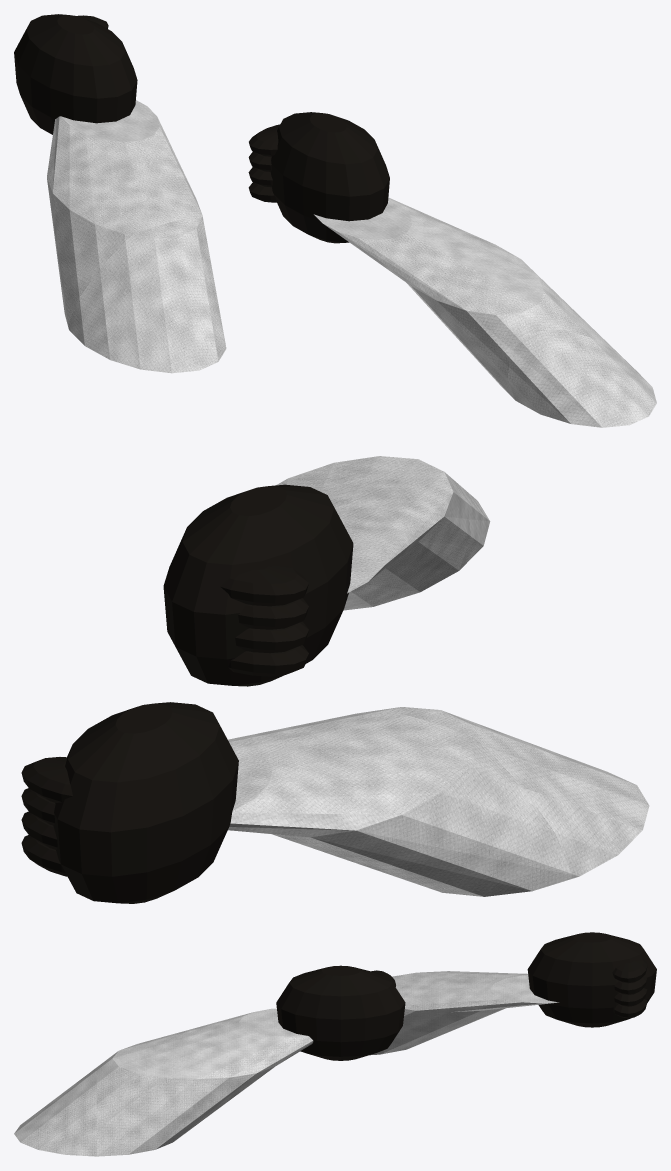
The model's file is FieldGrip.obj.
3 renders of one model, top to bottom at view 1: azimuth 30°, elevation 25°; view 2: azimuth 150°, elevation 25°; view 3: azimuth 270°, elevation 25°, orthographic. The views are drawn at different scales.
Bounding box in the file's own units: 0.48 × 0.199 × 0.895.
2 materials, 1 textured.
